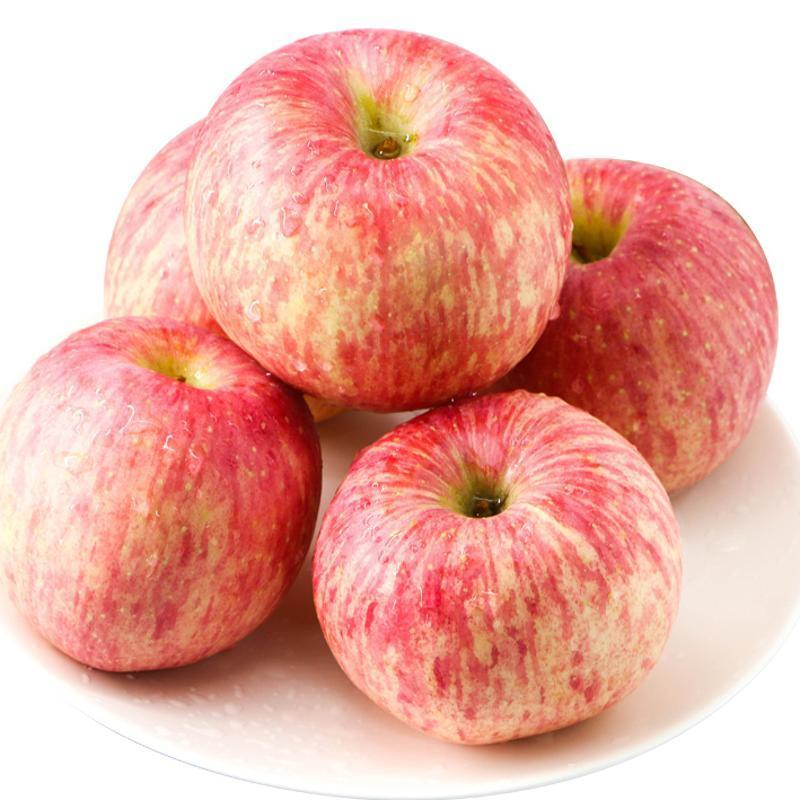apple: (183, 27, 569, 415), (304, 396, 697, 749), (10, 319, 329, 669), (496, 153, 775, 480)
